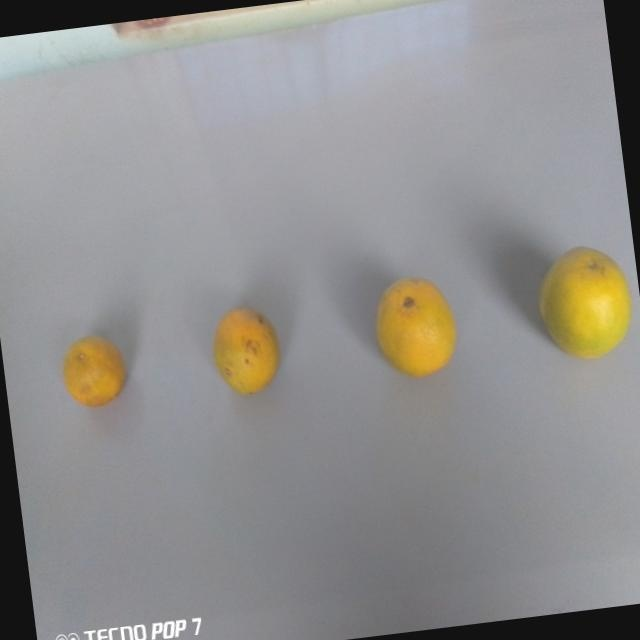agrume: (528, 236, 640, 371), (366, 265, 464, 391), (197, 299, 287, 410), (56, 325, 136, 415)
